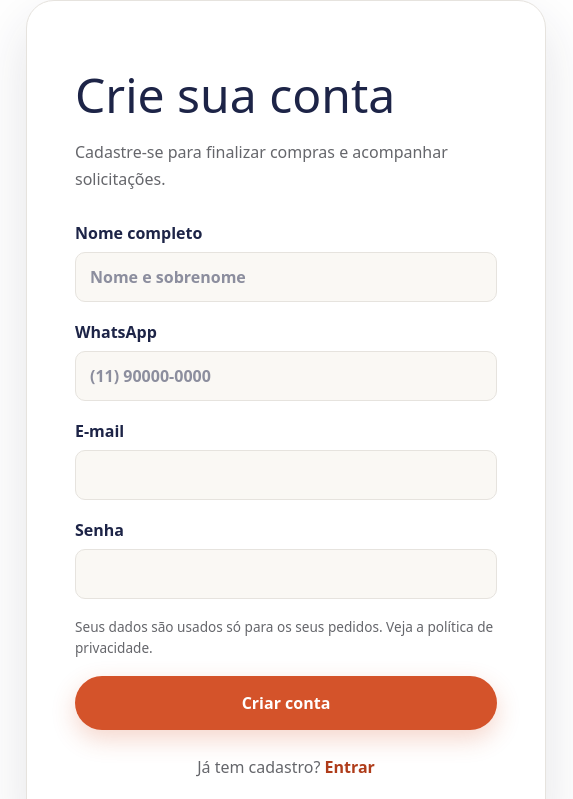
it: AuthForm › cadastro exige nome e sobrenome e WhatsApp com DDD
Type "ana@example.com" into the field labelled "E-mail" at (286, 475), box [75, 450, 497, 500]
Type "segredo123" into the password field labelled "Senha" at (286, 574), box [75, 549, 497, 599]
Type "Ana" into the field labelled "Nome completo" at (286, 277), box [75, 252, 497, 302]
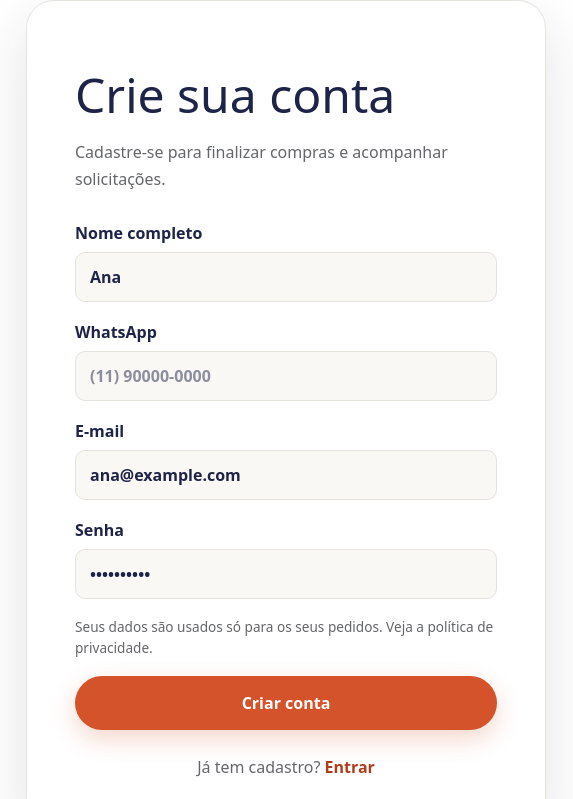
Type "11988887777" into the field labelled "WhatsApp" at (286, 376), box [75, 351, 497, 401]
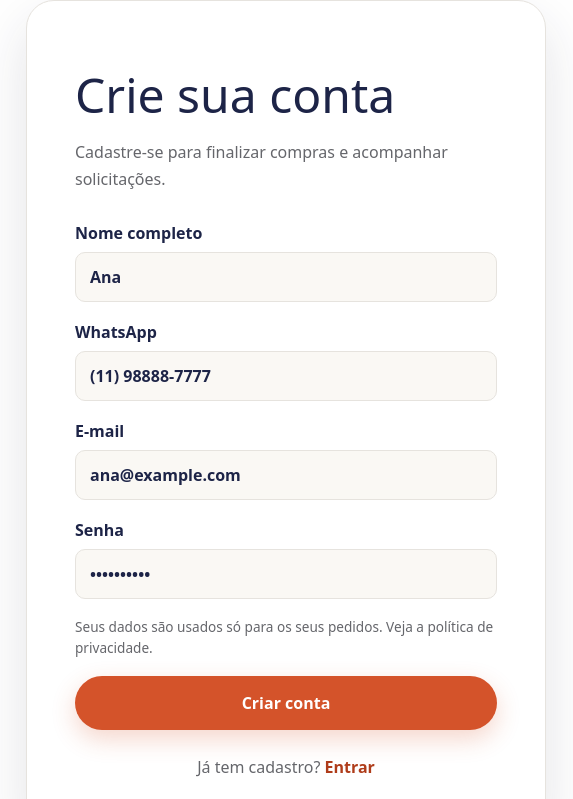
Click the button "Criar conta" at (286, 703), box [75, 676, 497, 730]
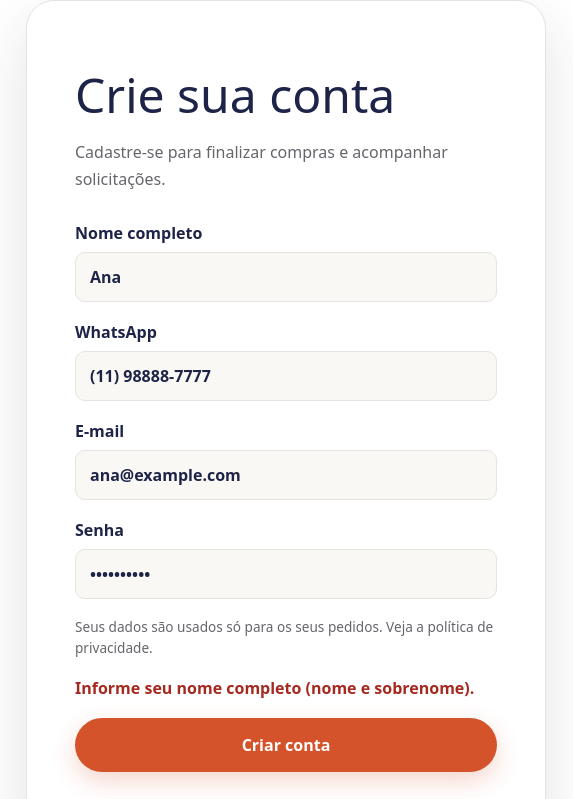
Now the message shows "nome completo", box [75, 677, 474, 699]
Replace the text in the field labelled "Nome completo" with "Ana Silva" at (286, 277), box [75, 252, 497, 302]
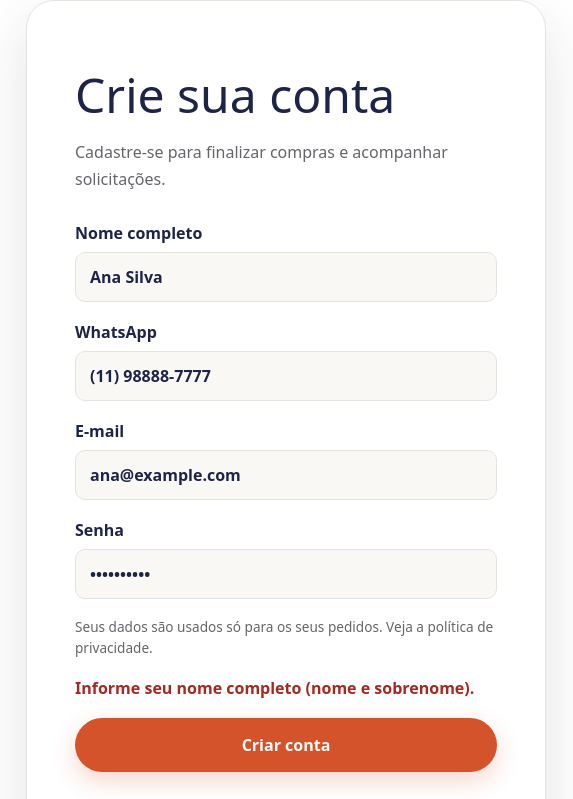
Replace the text in the field labelled "WhatsApp" with "9888" at (286, 376), box [75, 351, 497, 401]
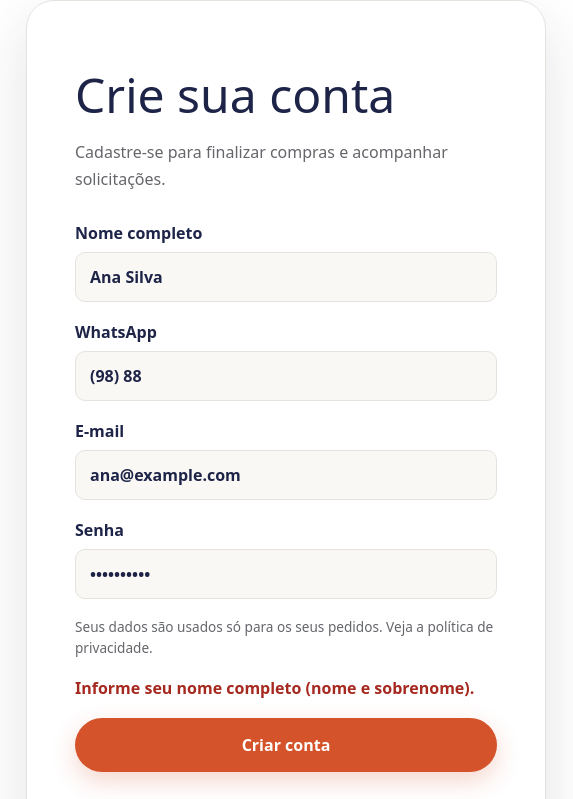
Click the button "Criar conta" at (286, 745), box [75, 718, 497, 772]
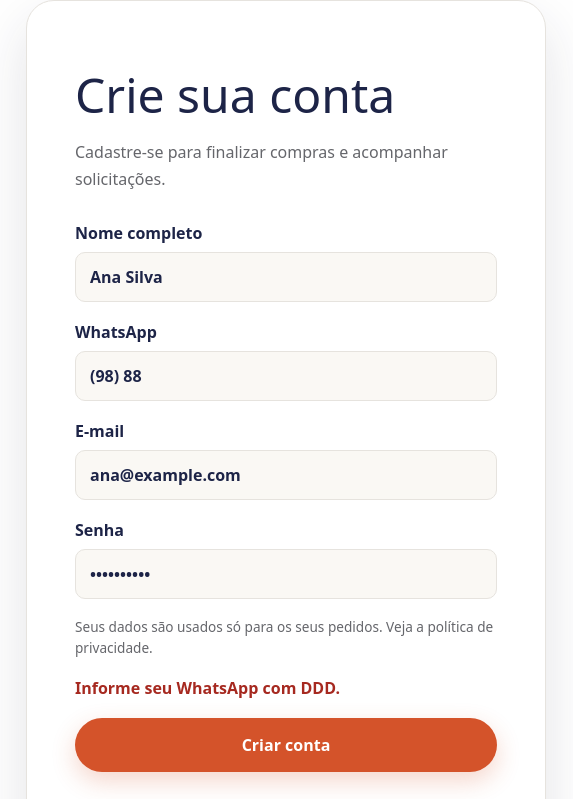
Now the message shows "WhatsApp com DDD", box [75, 677, 340, 699]
